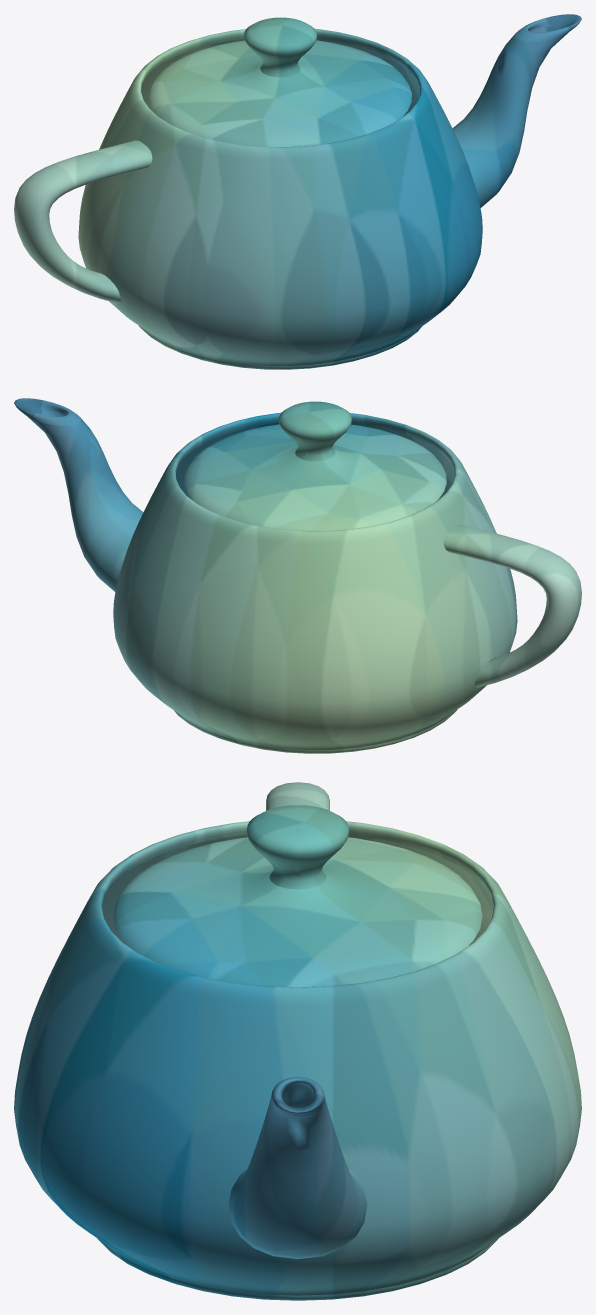
Rendered from teapot.glb.
3 renders of one model, top to bottom at view 1: azimuth 30°, elevation 25°; view 2: azimuth 150°, elevation 25°; view 3: azimuth 270°, elevation 25°, orthographic. The views are drawn at different scales.
Visible parts, largest first — view 1: teapot.001; view 2: teapot.001; view 3: teapot.001.
Boxes of the visible parts, left/top/right/bottom form: teapot.001: left=14, top=14, right=581, bottom=369; teapot.001: left=14, top=398, right=581, bottom=753; teapot.001: left=14, top=782, right=581, bottom=1300.
Size of the model in its own units: 0.9048 by 0.443 by 0.5625.
Materials: 1 (1 with a texture image).
